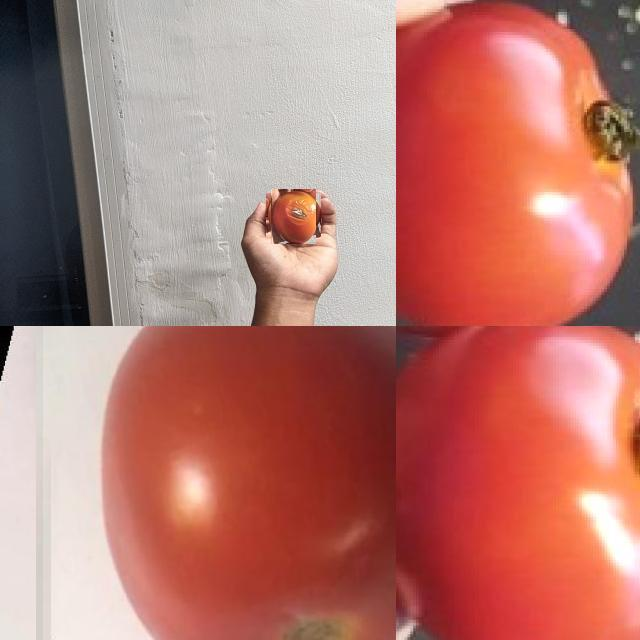Fresh Tomato: (43, 326, 396, 640), (396, 0, 640, 326), (396, 326, 640, 640)
Rotten Tomato: (268, 191, 319, 242)
